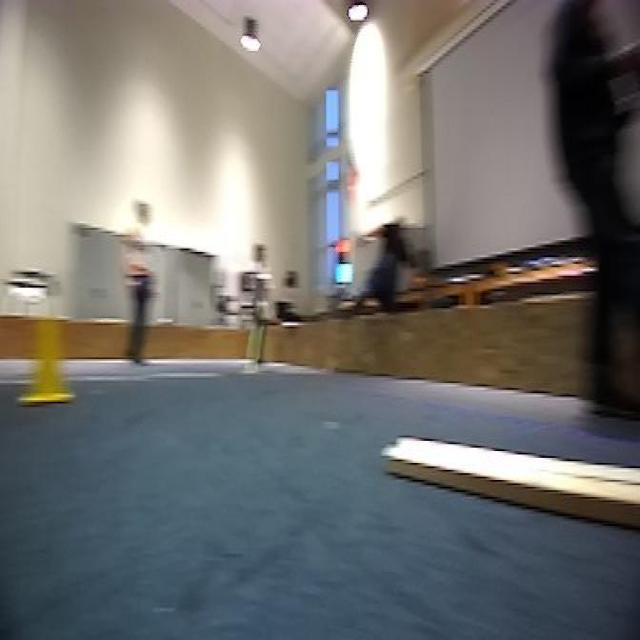frc_cone: (21, 303, 74, 414)
